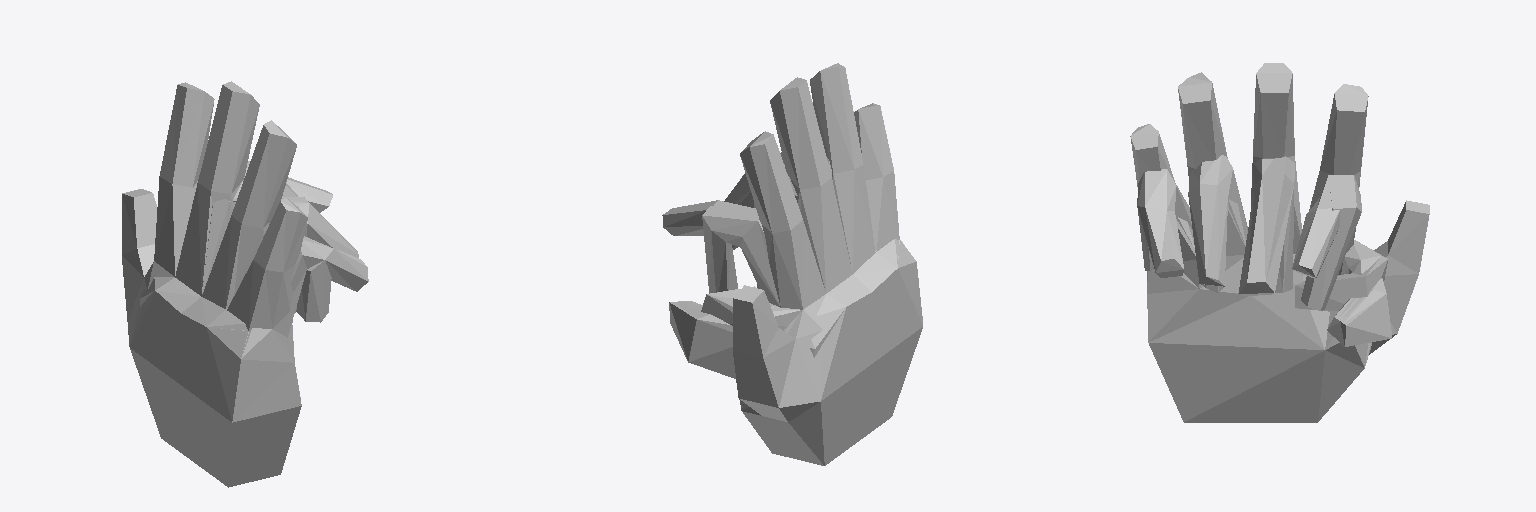
The model's file is hand_holding.obj.
The picture shows the model from 3 angles: view 1: azimuth 30°, elevation 25°; view 2: azimuth 150°, elevation 25°; view 3: azimuth 270°, elevation 25°; orthographic projection.
Parts seen in each view (by area): view 1: Hand_Cube, Three_Cube.001, Holding_Cube.005, One_Cube.003; view 2: Hand_Cube, Holding_Cube.005, Fist_Cube.004, Three_Cube.001; view 3: Three_Cube.001, Hand_Cube, Holding_Cube.005, Fist_Cube.004, Two_Cube.002, One_Cube.003.
Part boxes in pixels (bbox=[...]): Hand_Cube: bbox=[122, 81, 307, 487]; Three_Cube.001: bbox=[181, 223, 333, 358]; Holding_Cube.005: bbox=[140, 177, 368, 306]; One_Cube.003: bbox=[202, 166, 248, 293]; Hand_Cube: bbox=[733, 63, 922, 465]; Holding_Cube.005: bbox=[662, 152, 845, 410]; Fist_Cube.004: bbox=[702, 206, 780, 307]; Three_Cube.001: bbox=[701, 239, 910, 465]; Three_Cube.001: bbox=[1137, 166, 1387, 422]; Hand_Cube: bbox=[1130, 63, 1429, 354]; Holding_Cube.005: bbox=[1137, 174, 1391, 367]; Fist_Cube.004: bbox=[1301, 175, 1361, 310]; Two_Cube.002: bbox=[1188, 155, 1247, 292]; One_Cube.003: bbox=[1253, 156, 1299, 292].
Size of the model in its own units: 4.47 by 8.47 by 6.46.